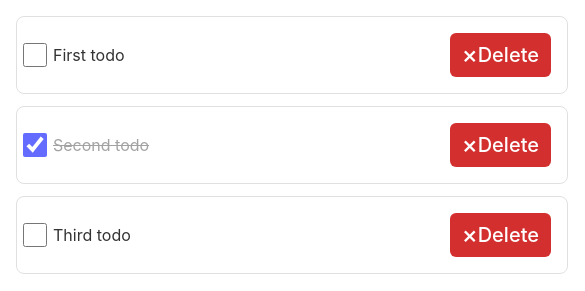
TodoList Component › removes todo from list after successful deletion
Check: the text "First todo" is shown, box [53,45,125,65]
Click the button "Delete" in the row of "First todo". click: [500, 55]
box: [450,33,551,77]
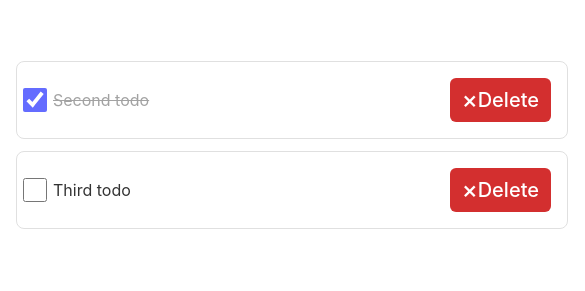
Check: the text "Second todo" is shown, box [53,90,149,110]
Check: the text "First todo" is gone
